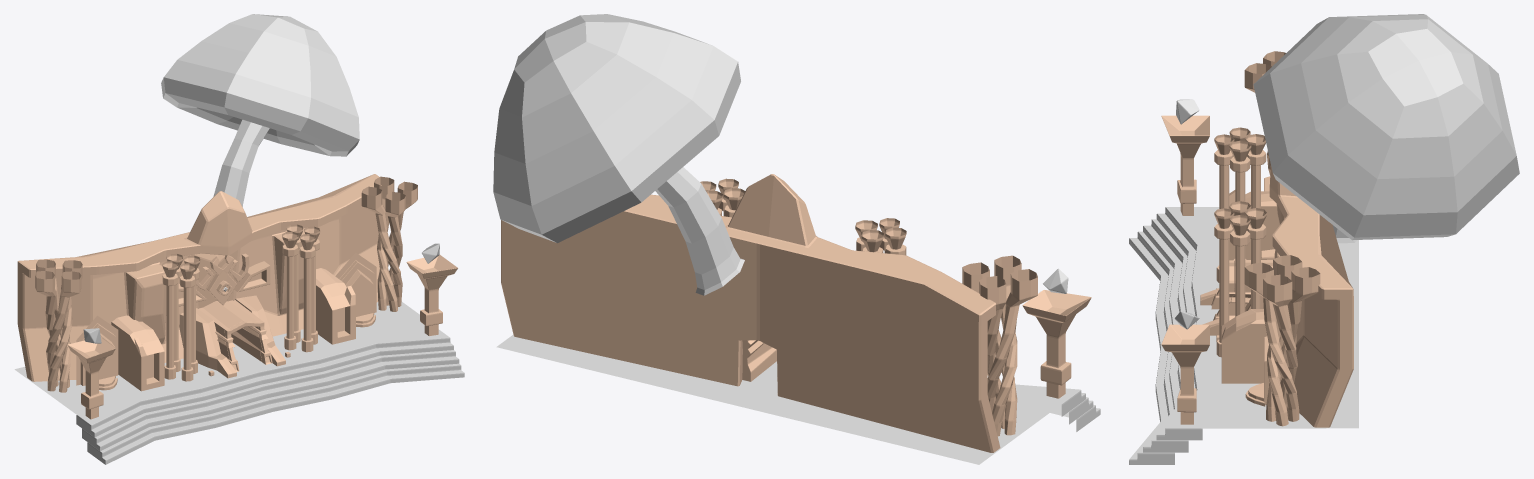
File: mesh_Caverna2.fbx
3 views of the same model, side by side, from view 1: azimuth 30°, elevation 25°; view 2: azimuth 150°, elevation 25°; view 3: azimuth 270°, elevation 25° (orthographic). The views are drawn at different scales.
Parts seen in each view (by area): view 1: Detalhes, Parede, Cogu, Escada, Plane.003, [], Pedra; view 2: Parede, Cogu, Plane.003, Detalhes, [], Escada; view 3: Cogu, Detalhes, Parede, Escada, Plane.003, [], Pedra.
Part boxes in pixels (<box>): Detalhes: <box>35,176,417,392</box>; Parede: <box>17,174,381,381</box>; Cogu: <box>161,14,359,206</box>; Escada: <box>76,329,464,464</box>; Plane.003: <box>14,302,424,414</box>; []: <box>67,254,457,419</box>; Pedra: <box>83,243,439,343</box>; Parede: <box>501,174,1000,452</box>; Cogu: <box>493,14,744,295</box>; Plane.003: <box>496,334,1061,464</box>; Detalhes: <box>700,178,1037,436</box>; []: <box>1022,290,1091,398</box>; Escada: <box>1015,384,1100,431</box>; Cogu: <box>1253,14,1519,243</box>; Detalhes: <box>1200,51,1320,426</box>; Parede: <box>1269,166,1353,427</box>; Escada: <box>1129,207,1202,464</box>; Plane.003: <box>1201,207,1358,428</box>; []: <box>1161,115,1209,424</box>; Pedra: <box>1174,99,1199,329</box>.
Bounding box in the file's own units: 20950 × 15872 × 14740.
